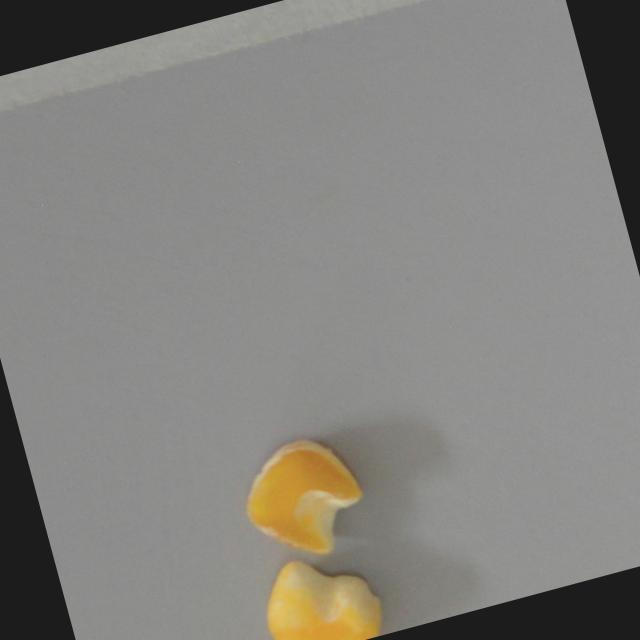no_canjicado: (253, 541, 390, 640)
pelicula: (229, 428, 376, 571)
